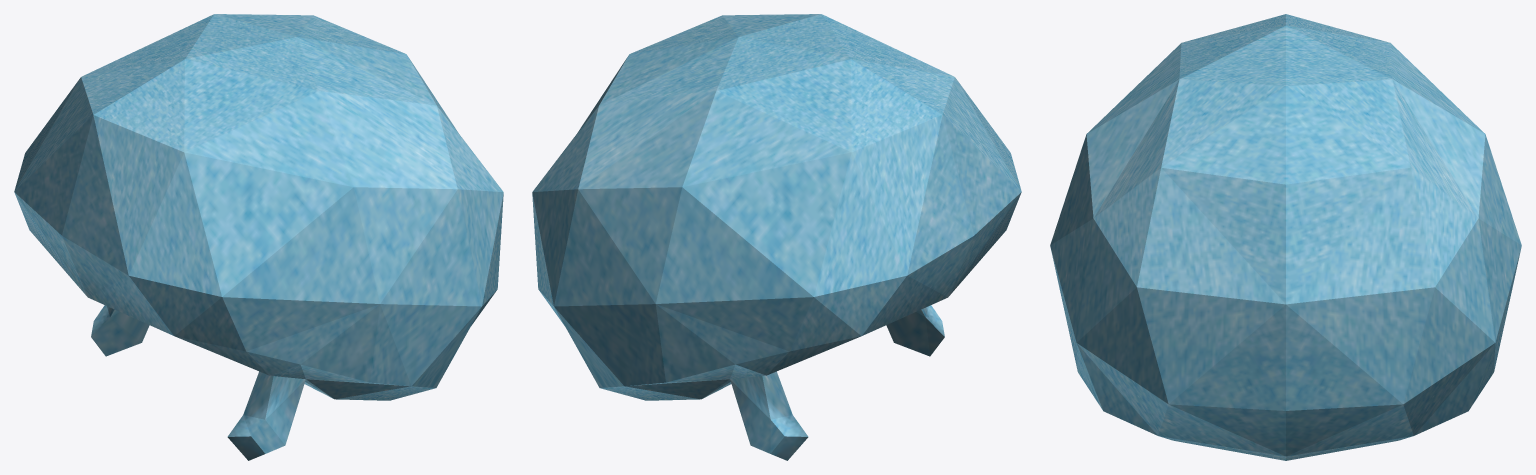
Rendered from Penguin_afro.obj.
3 views of the same model, side by side, from view 1: azimuth 30°, elevation 25°; view 2: azimuth 150°, elevation 25°; view 3: azimuth 270°, elevation 25° (orthographic).
Visible parts, largest first — view 1: Penguin_afro_tri; view 2: Penguin_afro_tri; view 3: Penguin_afro_tri.
Part boxes in pixels (x1,y1,x2,y2): Penguin_afro_tri: (14, 14, 503, 460); Penguin_afro_tri: (532, 14, 1021, 460); Penguin_afro_tri: (1050, 14, 1521, 460).
Bounding box in the file's own units: 0.4994 × 0.4176 × 0.5071.
Materials: 1 (1 with a texture image).
